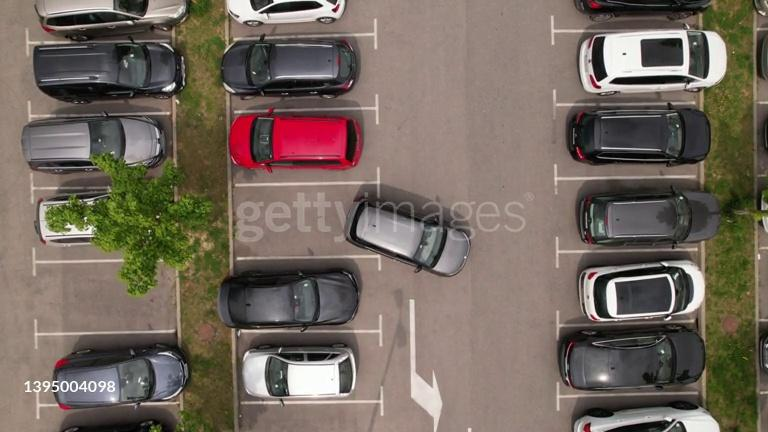car: (342, 196, 472, 276), (579, 27, 727, 94), (32, 41, 184, 103), (561, 326, 706, 389), (51, 344, 188, 409), (21, 114, 167, 173), (217, 268, 359, 328), (569, 107, 715, 165), (221, 37, 357, 97), (578, 258, 707, 321), (579, 187, 719, 245), (230, 116, 366, 172), (240, 344, 357, 399), (35, 0, 187, 39), (574, 401, 723, 431), (33, 190, 115, 244), (225, 0, 343, 27), (575, 0, 713, 21), (60, 417, 170, 431), (755, 32, 766, 81)
